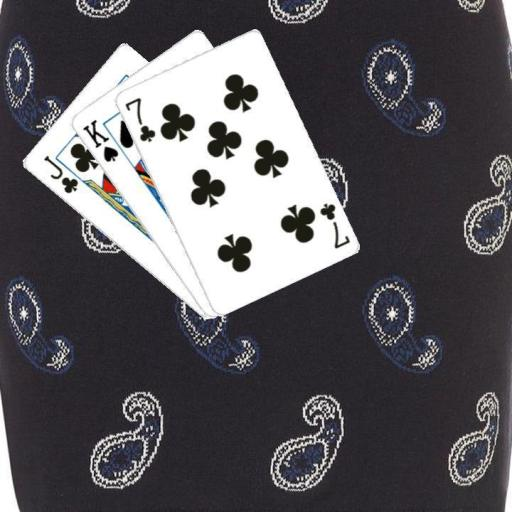card-corner: (79, 116, 120, 163), (121, 94, 157, 144), (40, 152, 80, 196), (316, 200, 351, 250)
